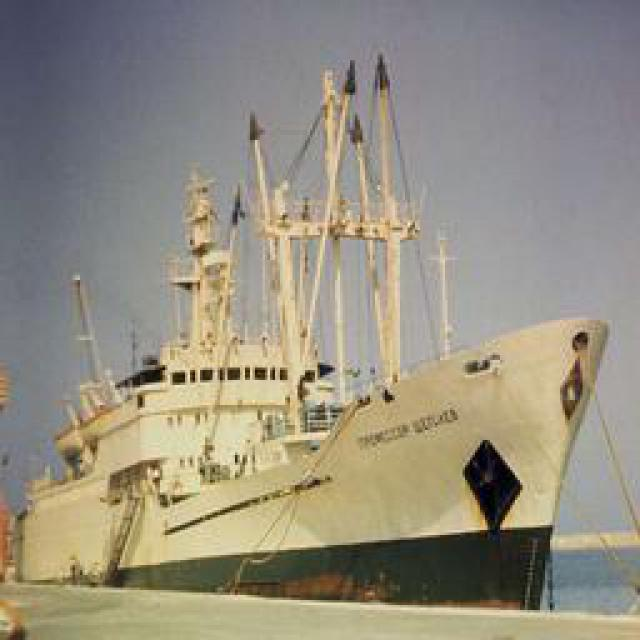Ship: (26, 35, 616, 600)
